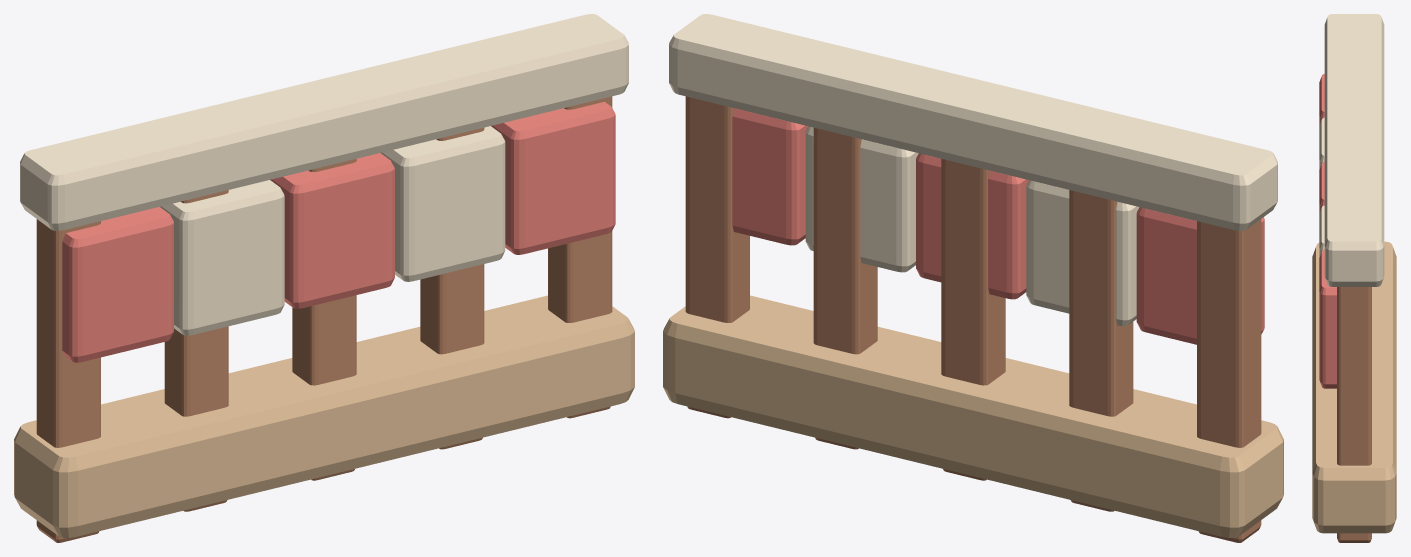
File: road_barrier.glb
The picture shows the model from 3 angles, left to right: view 1: azimuth 30°, elevation 25°; view 2: azimuth 150°, elevation 25°; view 3: azimuth 270°, elevation 25°; orthographic projection. The views are drawn at different scales.
Visible parts, largest first — view 1: model; view 2: model; view 3: model.
Part boxes in pixels (<box>): model: <box>14,14,634,542</box>; model: <box>663,14,1283,542</box>; model: <box>1312,14,1396,542</box>.
Bounding box in the file's own units: 1.3 × 0.8 × 0.2.
